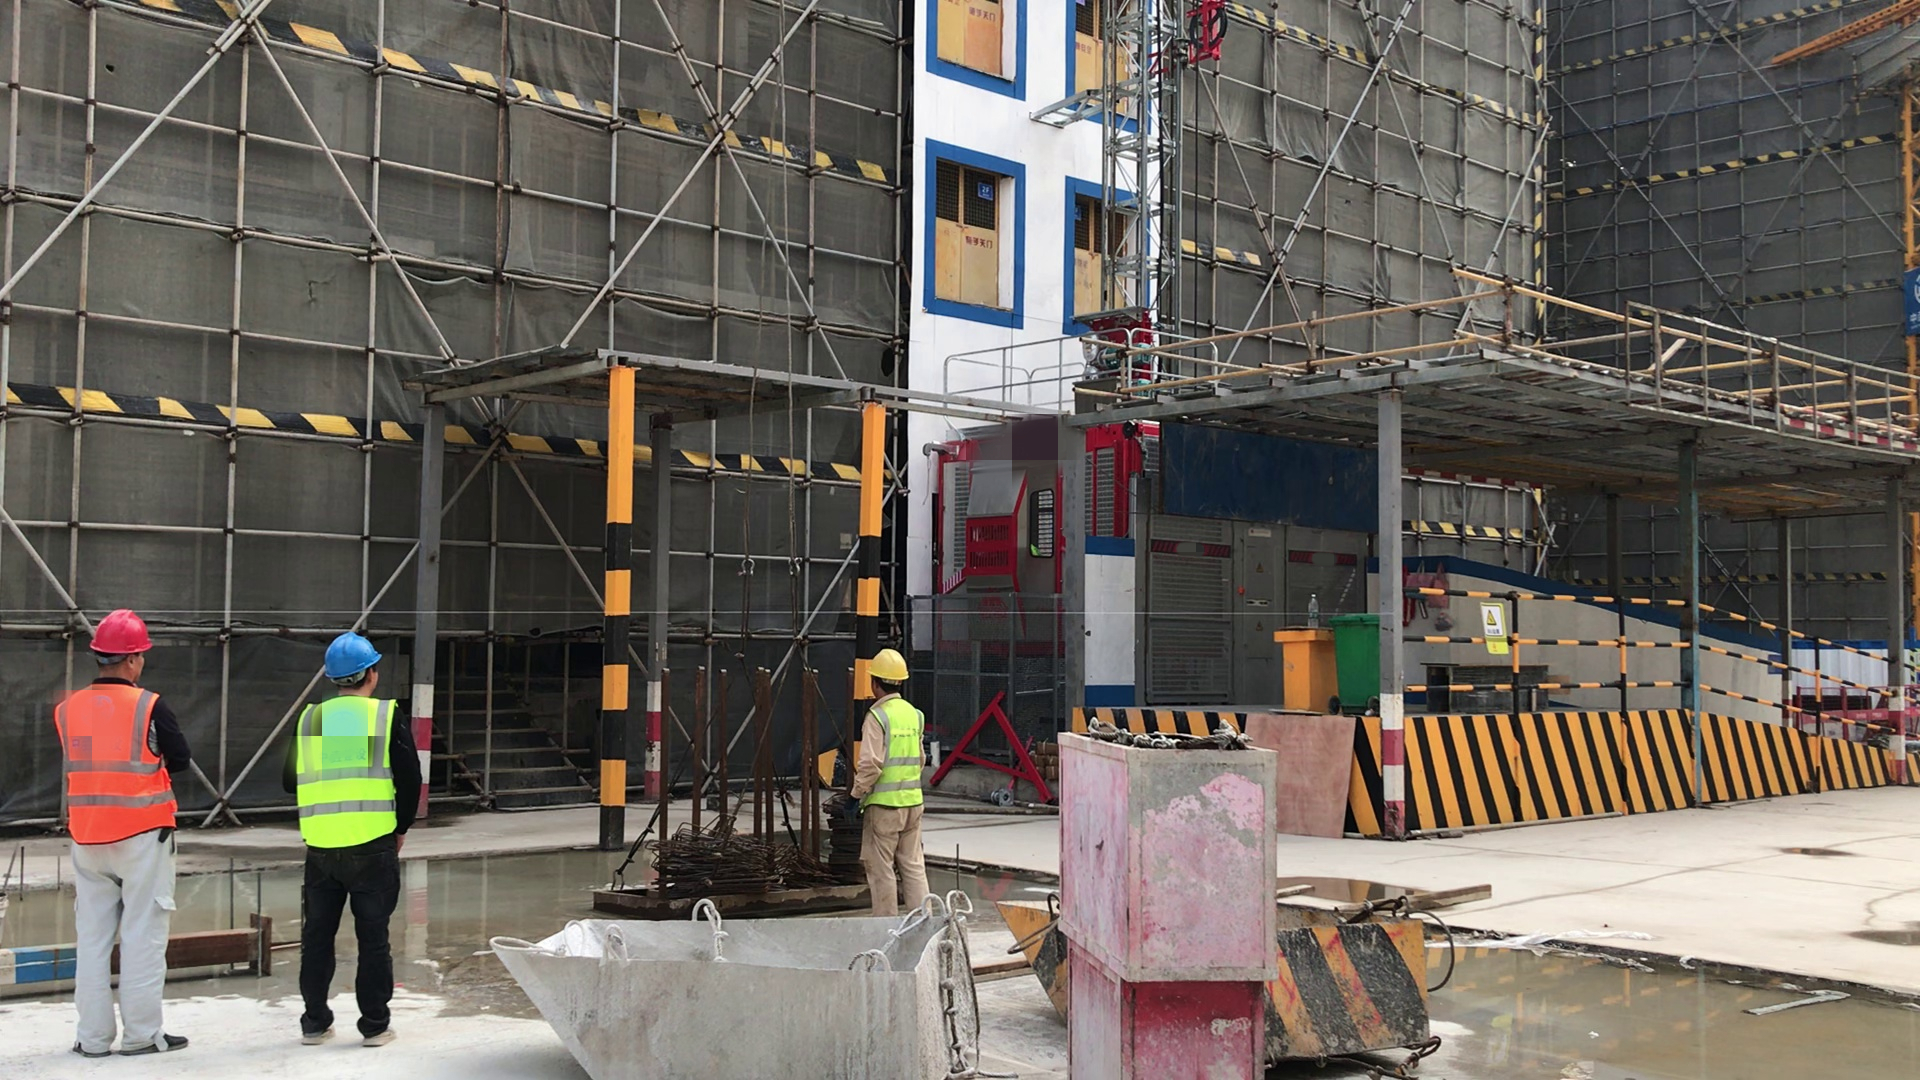fence: (1392, 559, 1851, 770)
helmet: (81, 605, 161, 656), (317, 632, 386, 682), (865, 650, 913, 687)
hopper: (480, 882, 993, 1080), (992, 875, 1453, 1067)
person: (48, 606, 194, 1063), (283, 627, 412, 1050), (848, 647, 935, 914)
slogan: (1477, 593, 1516, 672)
vest: (48, 682, 183, 849), (294, 697, 403, 855), (865, 693, 925, 819)
